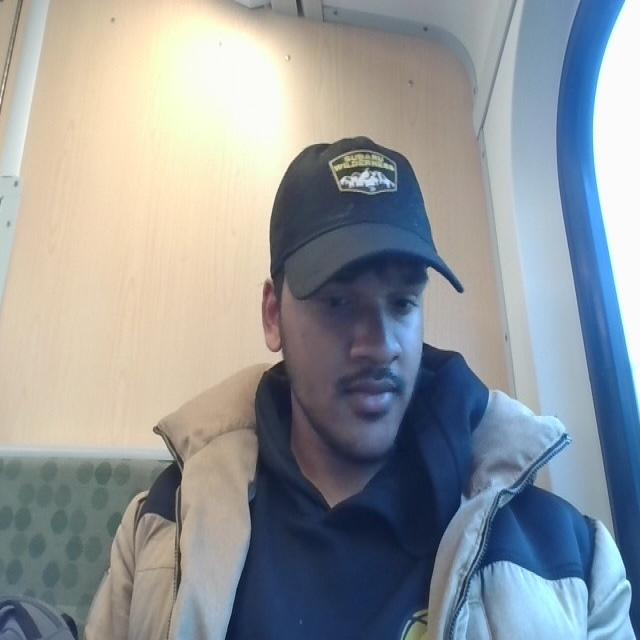hat: (264, 138, 471, 297)
